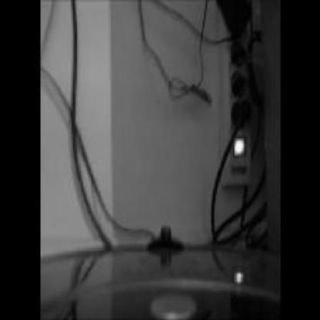other: (230, 134, 254, 167), (227, 264, 247, 286)
